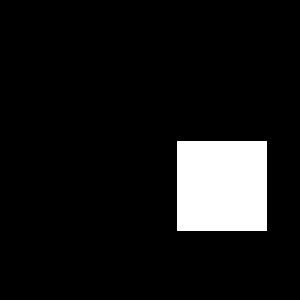circle: (177, 141, 267, 231)
